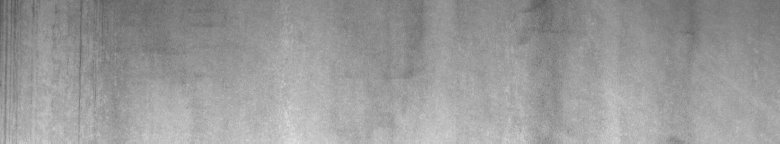ka: (4, 4, 116, 104)
